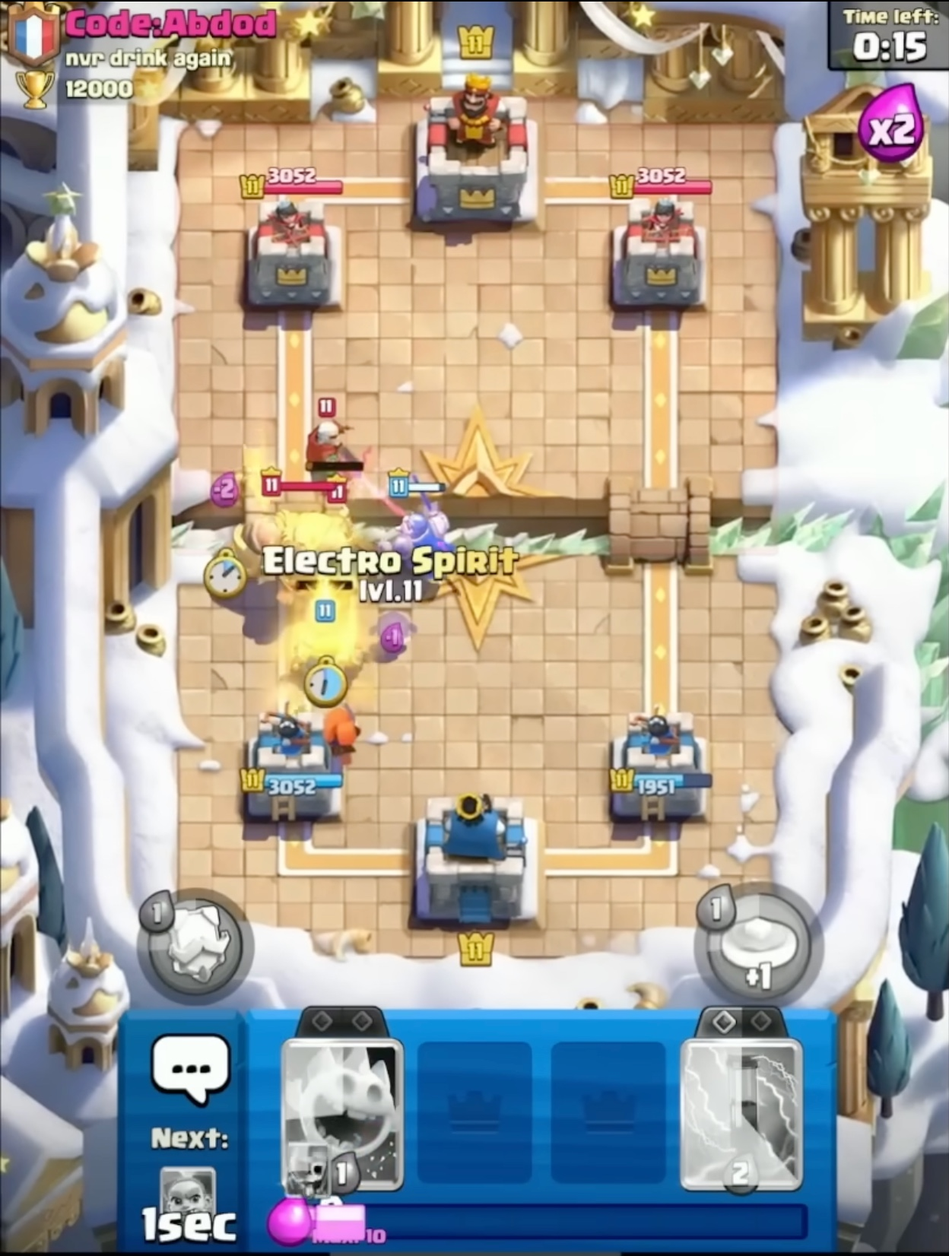hero-giant: (220, 464, 374, 622)
hero-mini-pekka: (301, 453, 370, 546)
magic-archer: (292, 398, 377, 499)
